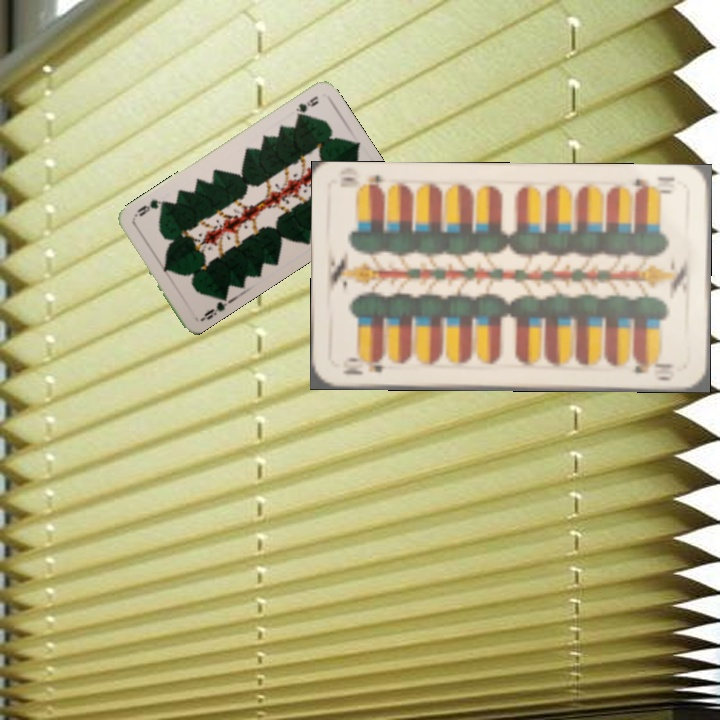E10: (339, 354, 389, 377), (630, 175, 675, 198)
G9: (196, 294, 232, 324), (292, 92, 321, 120)
